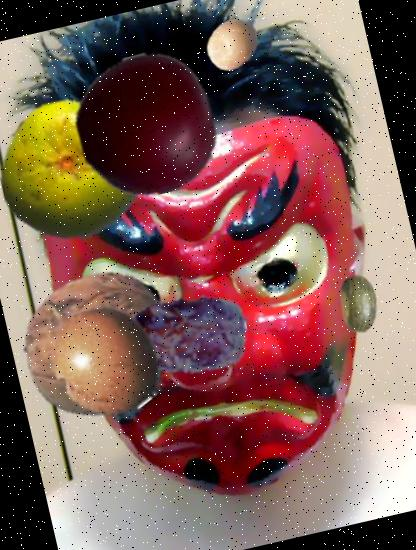Cherry: (60, 40, 230, 209)
Dates: (103, 256, 261, 414)
Granadilla: (10, 262, 184, 437)
Kumquats: (199, 10, 267, 78)
Melon: (324, 269, 394, 339)
Pomelo: (0, 81, 160, 256)
Walnut: (8, 256, 185, 432)
